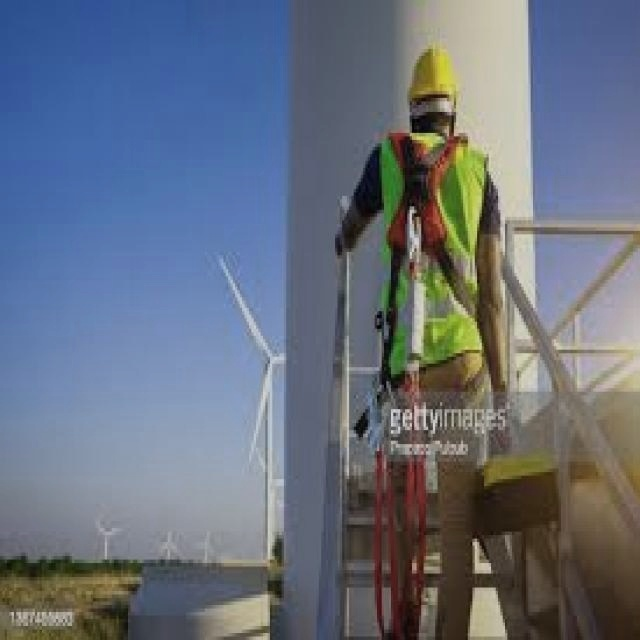safety belt: (350, 130, 501, 322)
